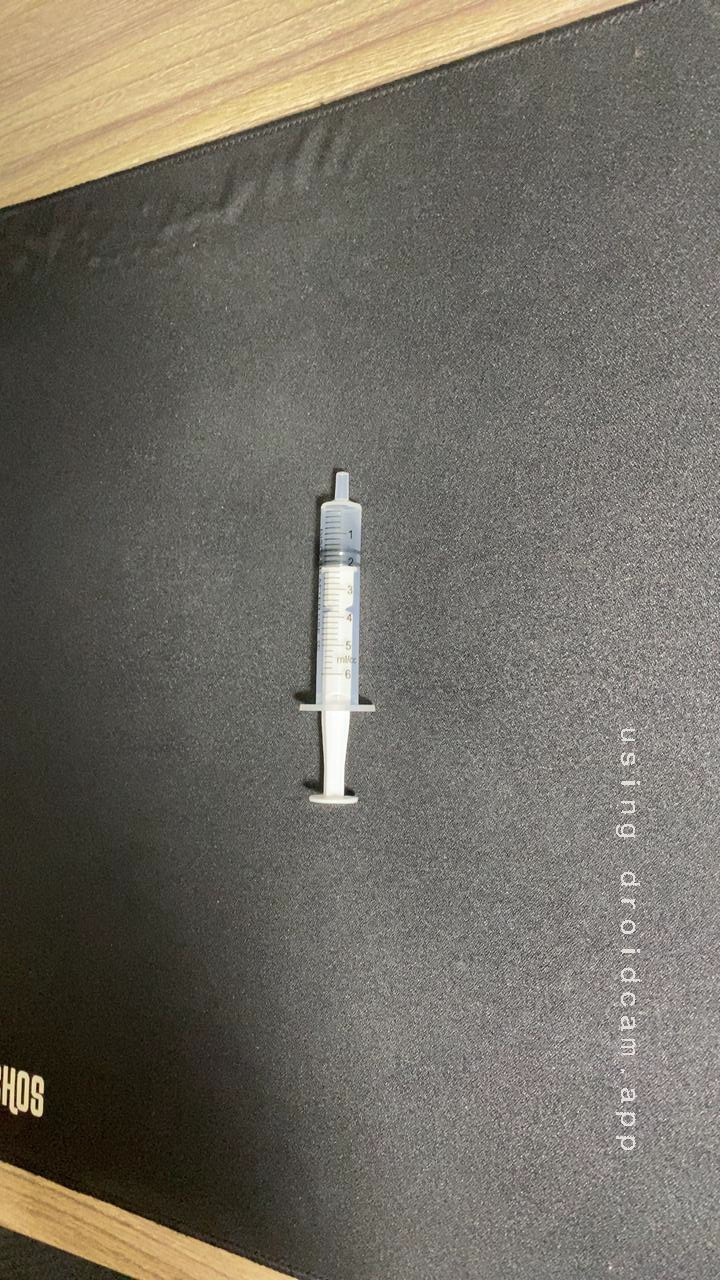syringe: (259, 454, 413, 819)
